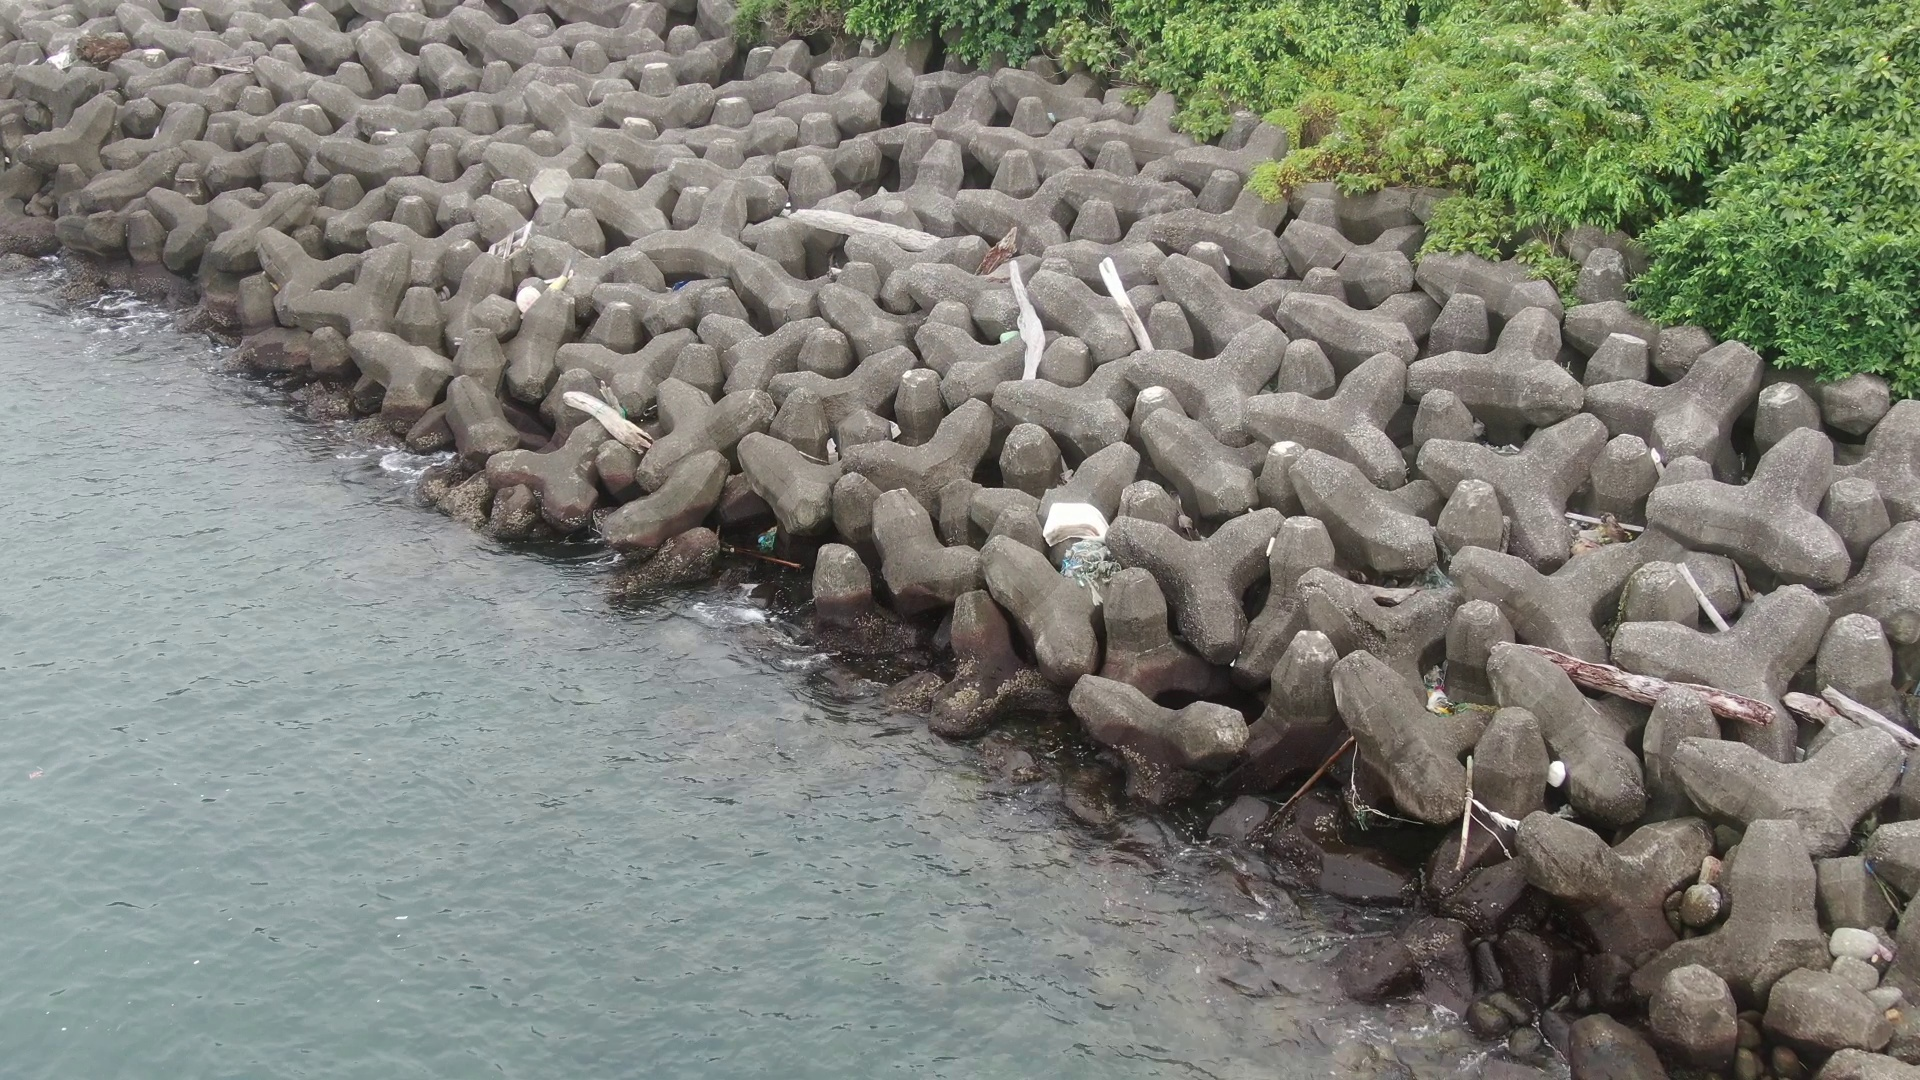garbage: (1036, 487, 1130, 607), (512, 265, 580, 315), (1420, 665, 1448, 720), (1542, 758, 1573, 795), (750, 518, 786, 549)
